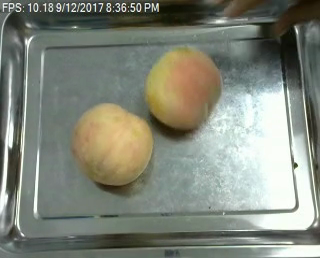Peach: (71, 101, 153, 186), (144, 45, 222, 130)
